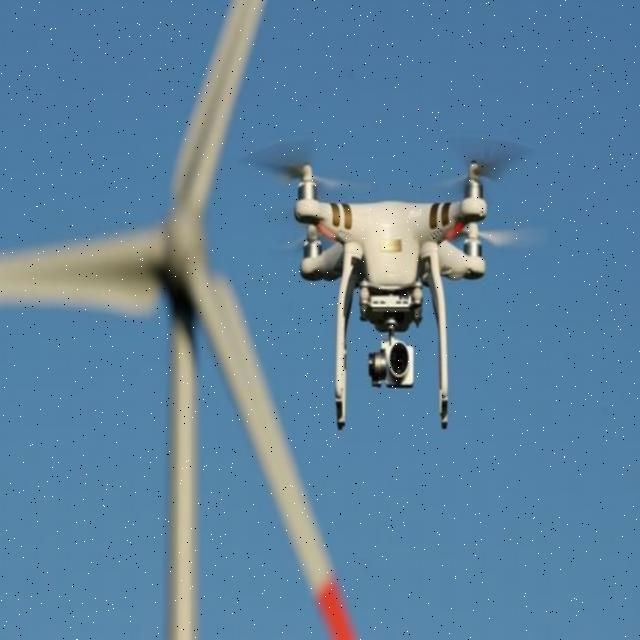UAV: (291, 160, 496, 436)
